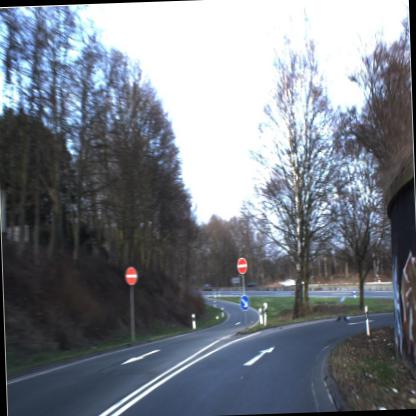mandatory: (237, 290, 252, 315)
other: (122, 263, 140, 291), (235, 257, 249, 275)
